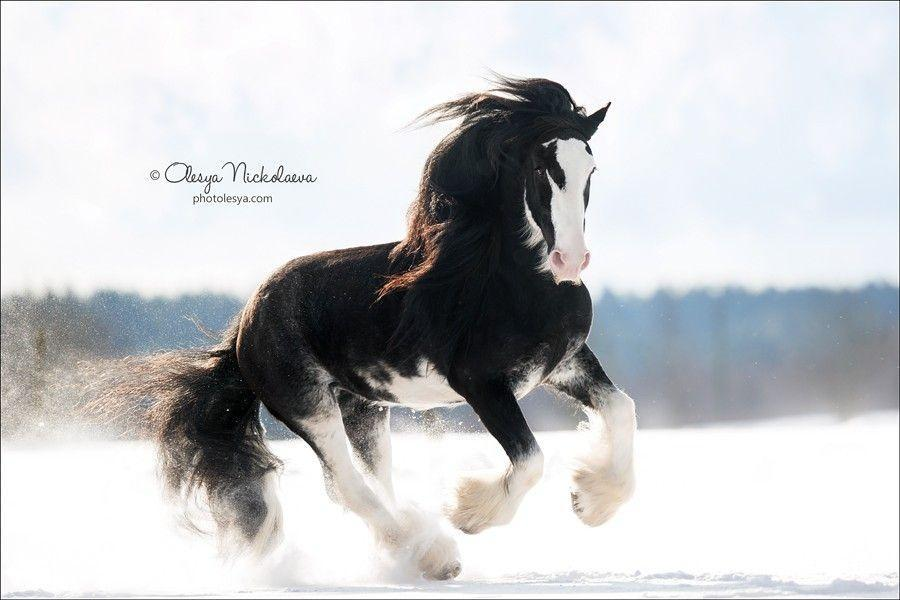horse: (54, 69, 638, 582)
